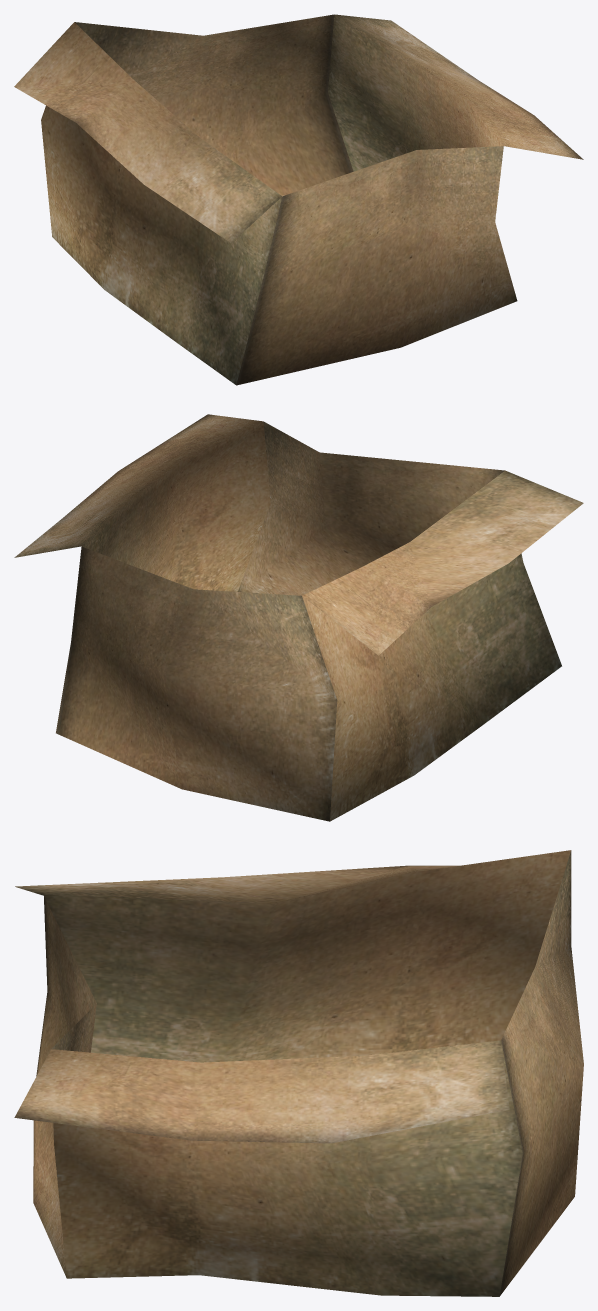
File: BoxOpened.fbx
3 views of the same model, one above another, from view 1: azimuth 30°, elevation 25°; view 2: azimuth 150°, elevation 25°; view 3: azimuth 270°, elevation 25° (orthographic). The views are drawn at different scales.
Parts seen in each view (by area): view 1: box2; view 2: box2; view 3: box2.
Boxes of the visible parts, x1,y1,x2,y2 form: box2: [14, 14, 583, 385]; box2: [14, 414, 583, 821]; box2: [14, 850, 583, 1296].
Bounding box in the file's own units: 82.33 × 43.62 × 80.36.
